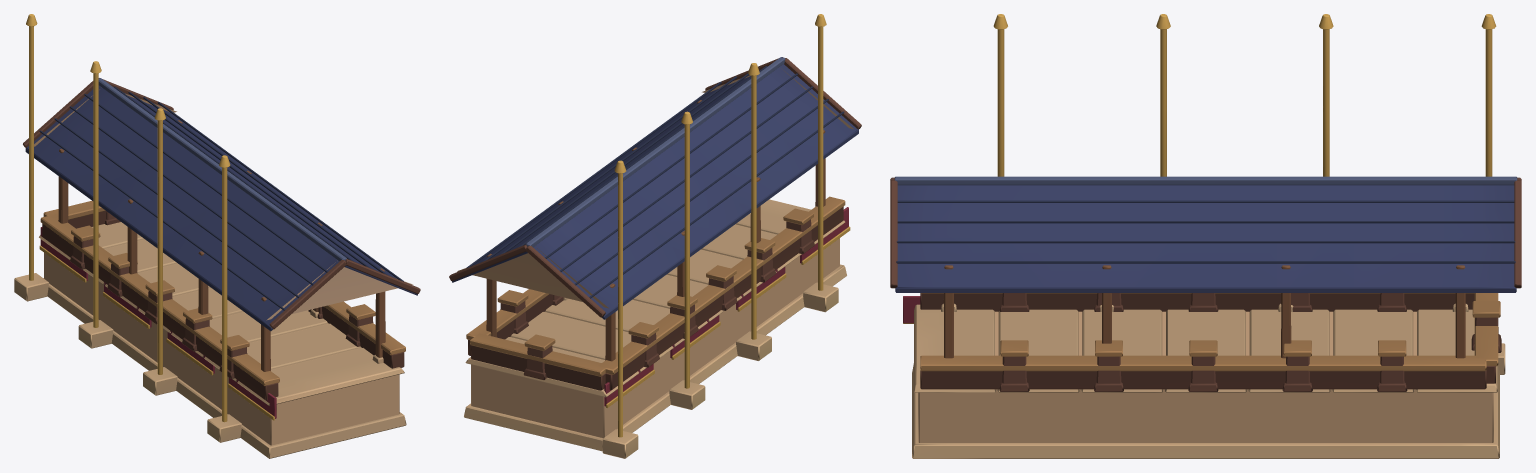
The model's file is pavilion.glb.
The picture shows the model from 3 angles, left to right: view 1: azimuth 30°, elevation 25°; view 2: azimuth 150°, elevation 25°; view 3: azimuth 270°, elevation 25°; orthographic projection. The views are drawn at different scales.
Parts seen in each view (by area): view 1: pavilion; view 2: pavilion; view 3: pavilion.
Boxes of the visible parts, box(x1,y1,x2,y2) form: pavilion: box(14, 14, 420, 458); pavilion: box(449, 14, 861, 458); pavilion: box(890, 14, 1521, 458).
Bounding box in the file's own units: 5.08 × 8.27 × 13.39.
